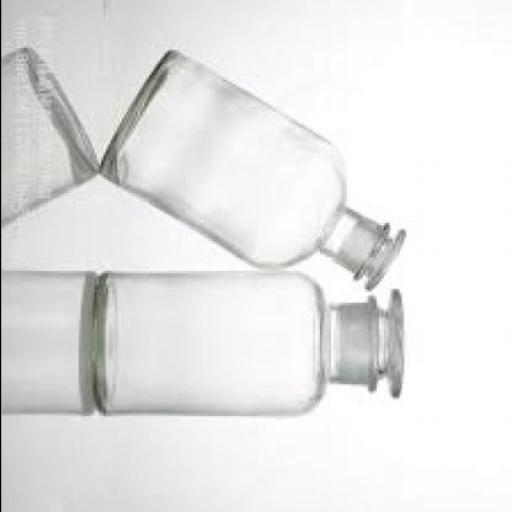glass: (100, 55, 407, 291), (91, 271, 405, 418)
